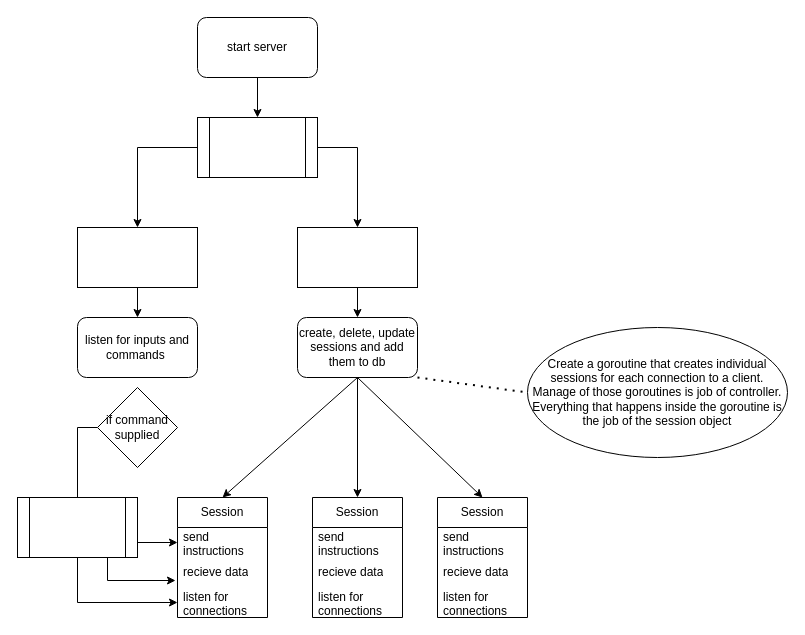
Image size: 805x635. Some labels were removed from this diagram. The centre of each missing label's shape, as x and y in pixels:
execute the right function on session: point 77,527
init cli: point 137,257
init controller: point 357,257
parse arguments and setup config: point 257,147
